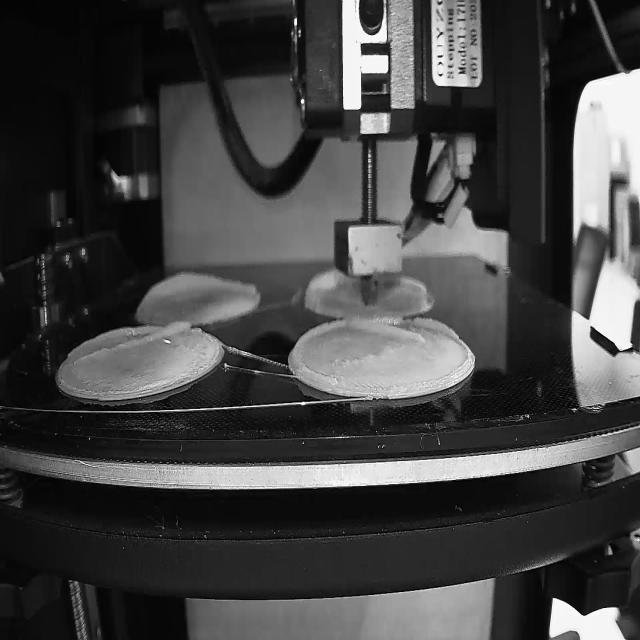over_extrusion: (78, 318, 191, 362), (142, 269, 261, 305), (350, 313, 460, 348), (293, 318, 346, 382), (303, 273, 350, 312), (390, 278, 429, 294)
